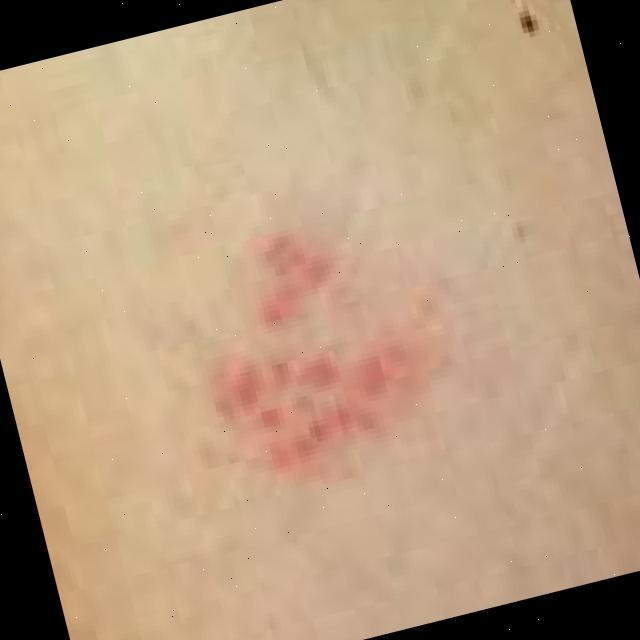Shingles: (210, 226, 422, 472)
